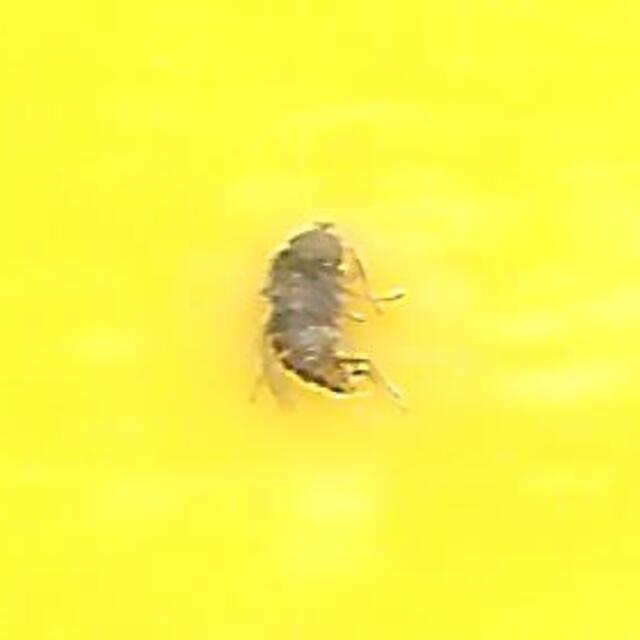Brachycera: (229, 218, 411, 422)
